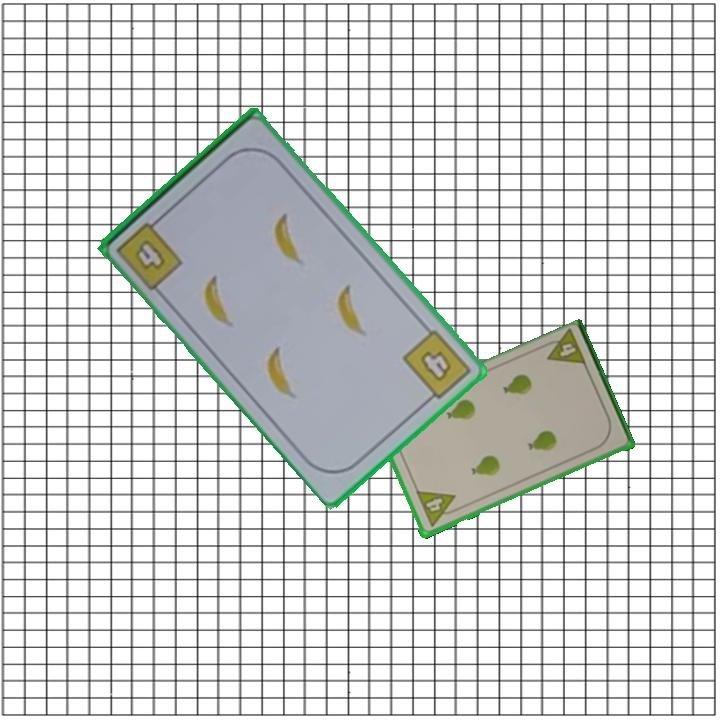4b: (399, 325, 475, 407), (112, 212, 186, 294)
4p: (538, 327, 589, 370), (413, 487, 462, 530)
